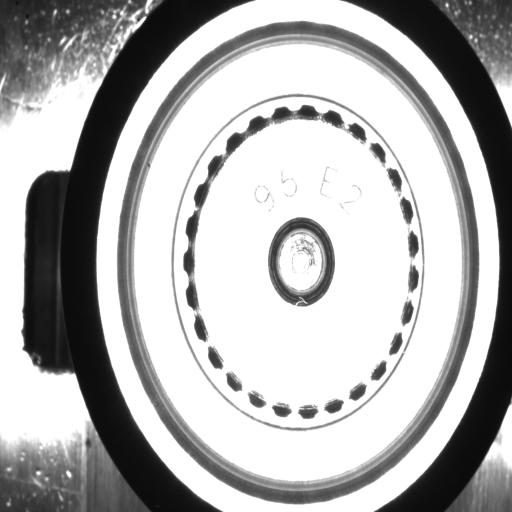gear: (181, 100, 421, 423)
